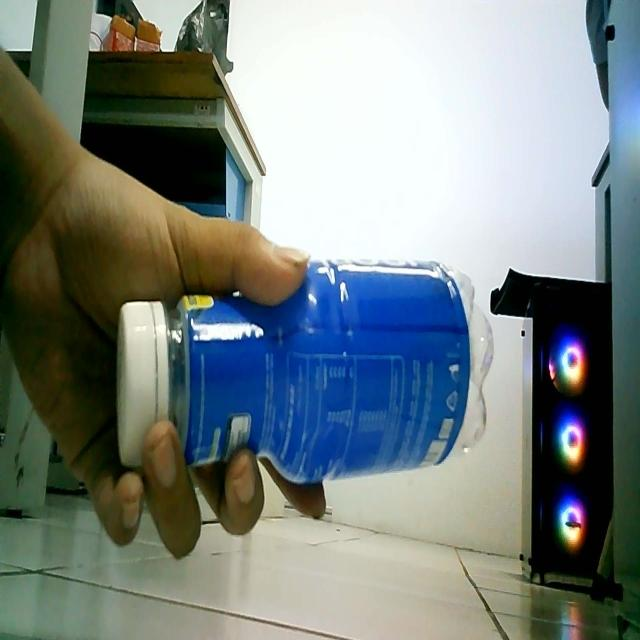botol: (97, 208, 498, 503)
